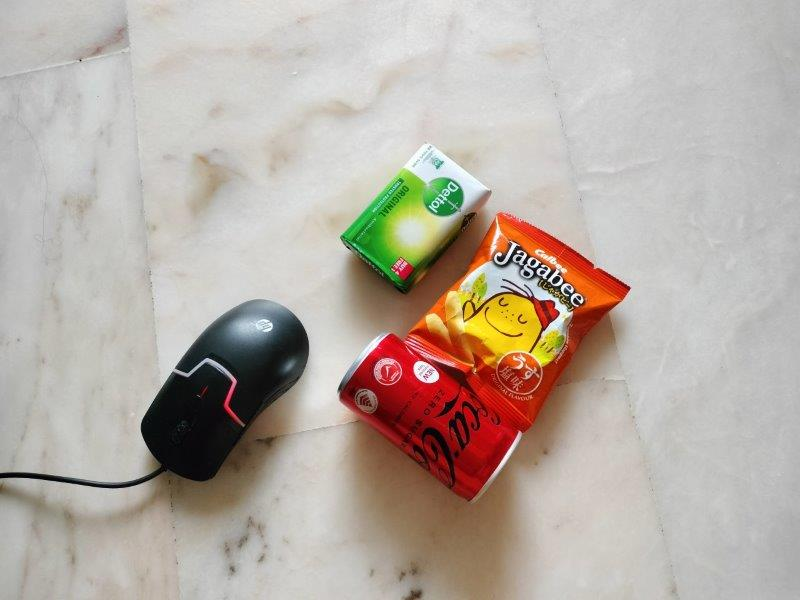Coke: (336, 334, 524, 504)
Dettol: (341, 143, 491, 290)
Jagabee: (408, 214, 625, 429)
